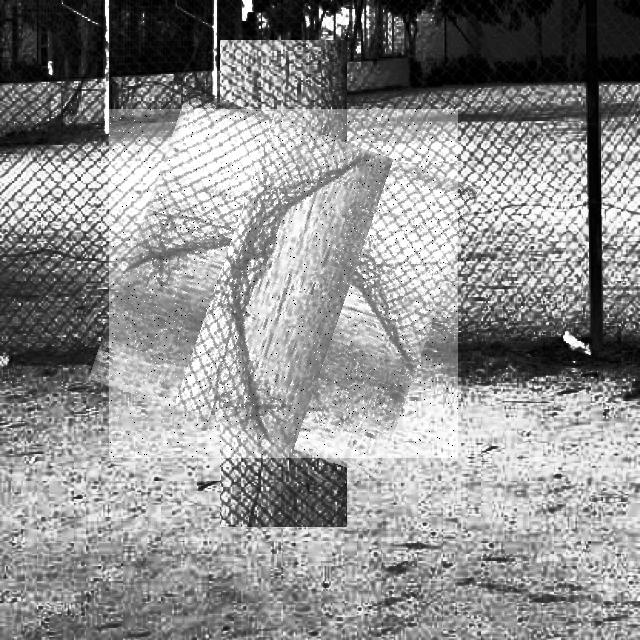anomaly-fence: (109, 109, 458, 458)
